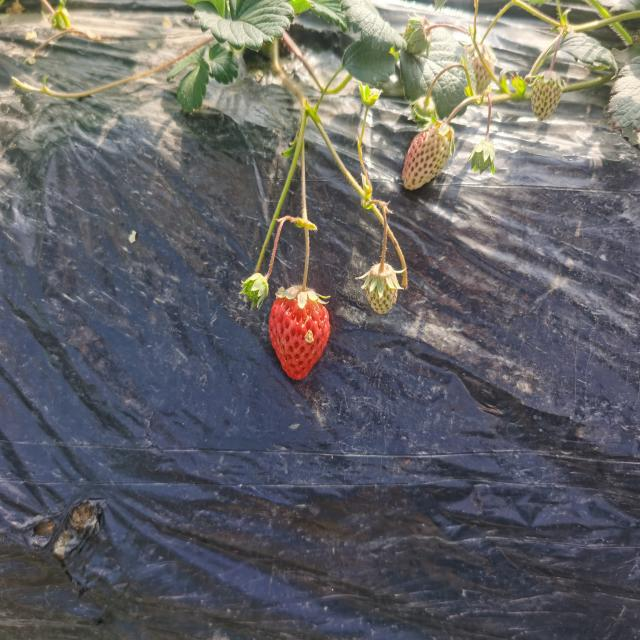stem: (301, 262, 308, 293)
strawberry: (268, 286, 330, 379)
